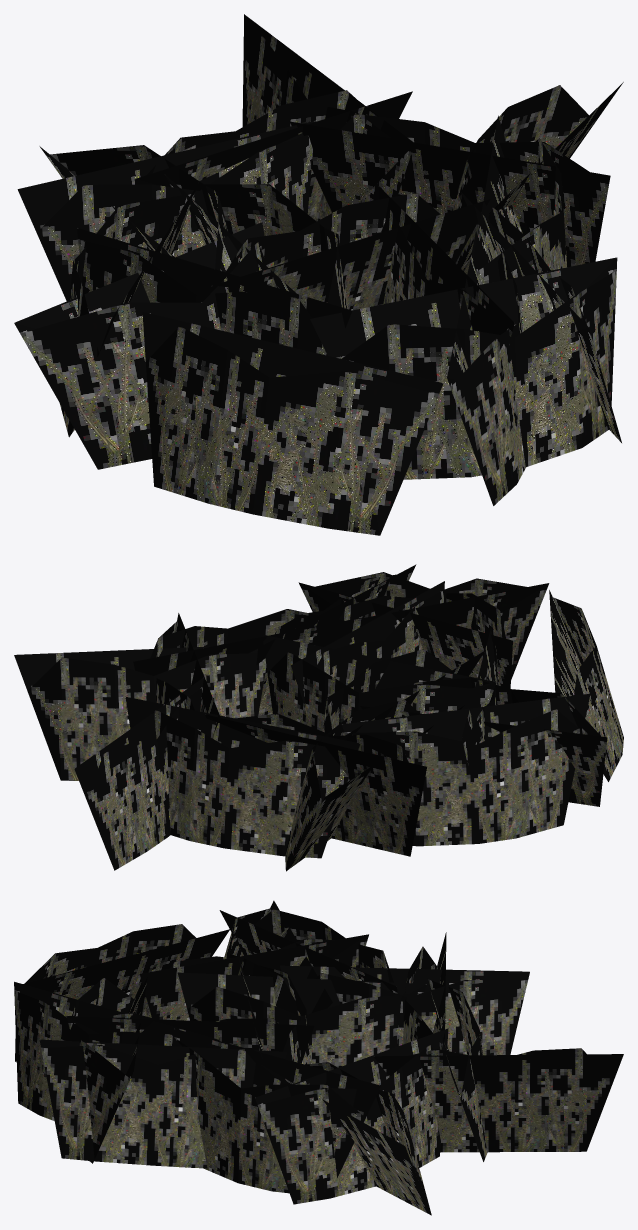
File: grass_dry02.glb
The picture shows the model from 3 angles, top to bottom: view 1: azimuth 30°, elevation 25°; view 2: azimuth 150°, elevation 25°; view 3: azimuth 270°, elevation 25°; orthographic projection. The views are drawn at different scales.
Parts seen in each view (by area): view 1: Grass_Dry02_LOD1; view 2: Grass_Dry02_LOD1; view 3: Grass_Dry02_LOD1.
Part boxes in pixels (left/top/right/bottom): Grass_Dry02_LOD1: left=14, top=14, right=623, bottom=535; Grass_Dry02_LOD1: left=14, top=564, right=623, bottom=871; Grass_Dry02_LOD1: left=14, top=900, right=623, bottom=1215.
Size of the model in its own units: 2.05 by 0.4292 by 2.12.
Materials: 1 (1 with a texture image).
